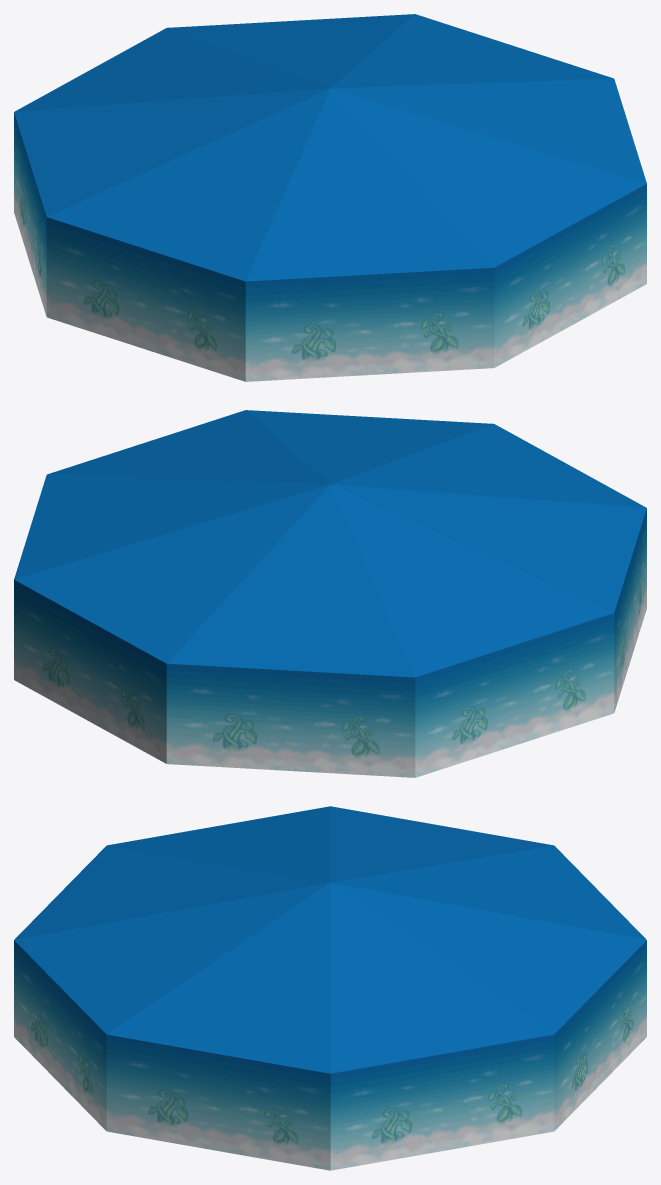
Rendered from old_sky_agb-old_sky_agb_V.glb.
The picture shows the model from 3 angles, top to bottom: view 1: azimuth 30°, elevation 25°; view 2: azimuth 150°, elevation 25°; view 3: azimuth 270°, elevation 25°; orthographic projection. The views are drawn at different scales.
Parts seen in each view (by area): view 1: old_sky_agb_V; view 2: old_sky_agb_V; view 3: old_sky_agb_V.
Boxes of the visible parts, box(x1,y1,x2,y2) form: old_sky_agb_V: box(14, 14, 646, 381); old_sky_agb_V: box(14, 410, 646, 777); old_sky_agb_V: box(14, 806, 646, 1170).
Bounding box in the file's own units: 625 × 168 × 625.
2 materials, 2 textured.
